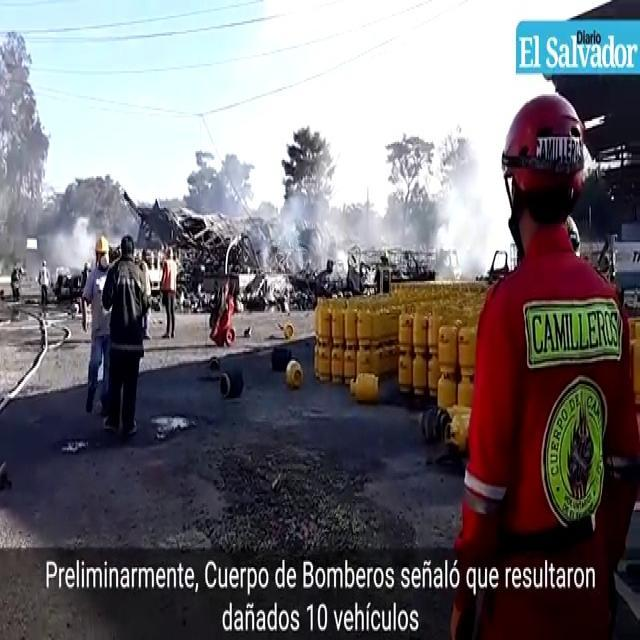Smoke: (209, 134, 505, 286), (38, 199, 98, 286)
